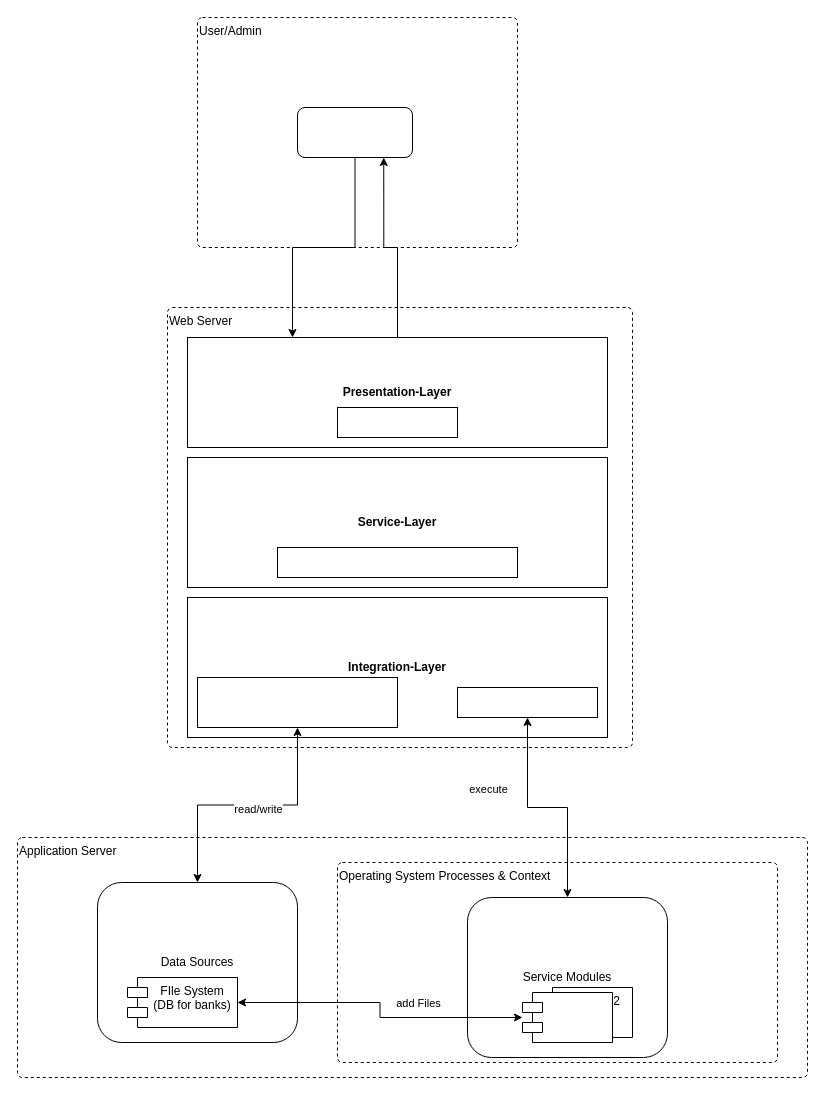
Some shapes in this 825 by 1095 pixel diagram are drawn without their labels. The centre of each missing label's shape, as x and y in pixels:
Data Source Access ( generate table acter click "ShowResoults" - Locations Page): [297,702]
Module1: [567,1017]
Service Definitions & Implementations: [397,562]
Service Module Facade: [527,702]
Web Browser (front-end technologies): [354,132]
Wicked Components: [397,422]
